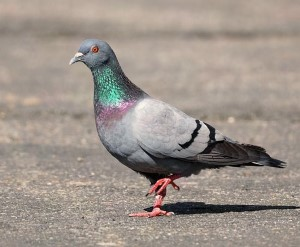pigeon: (67, 37, 288, 218)
